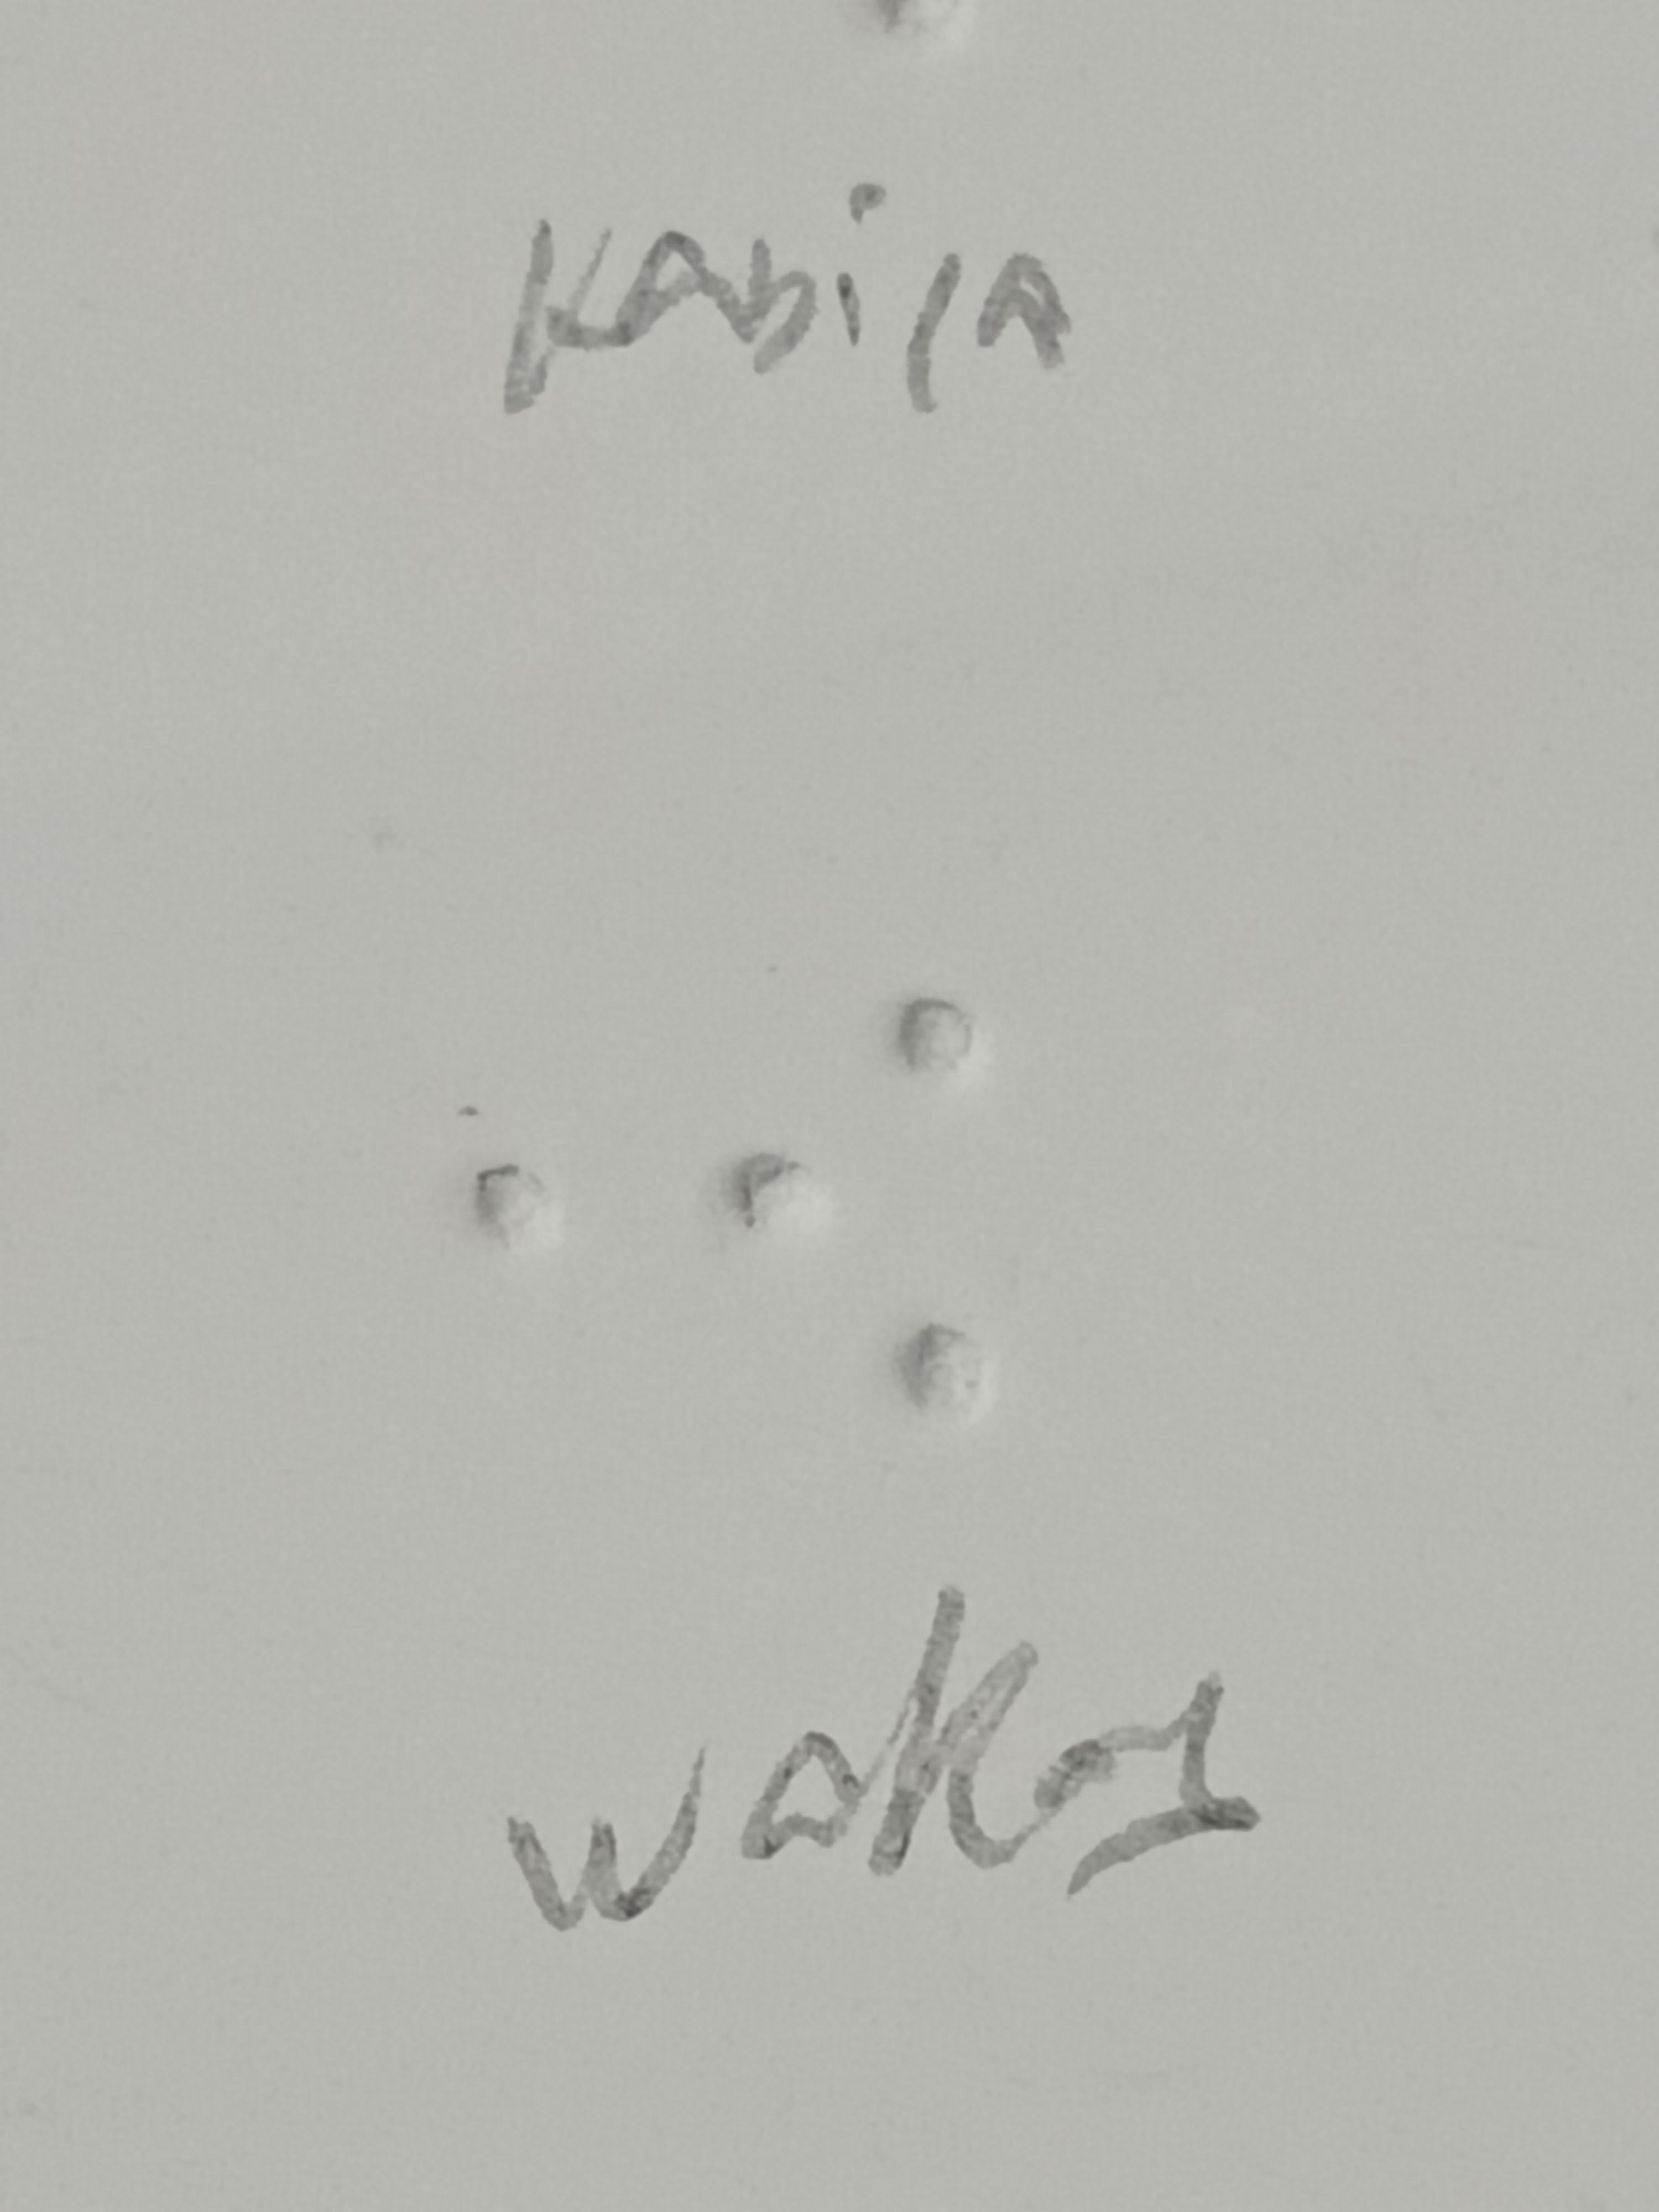dot_5: (279, 986, 554, 1437)
two_cell_non_alphabet_wakas: (725, 991, 1000, 1440)
